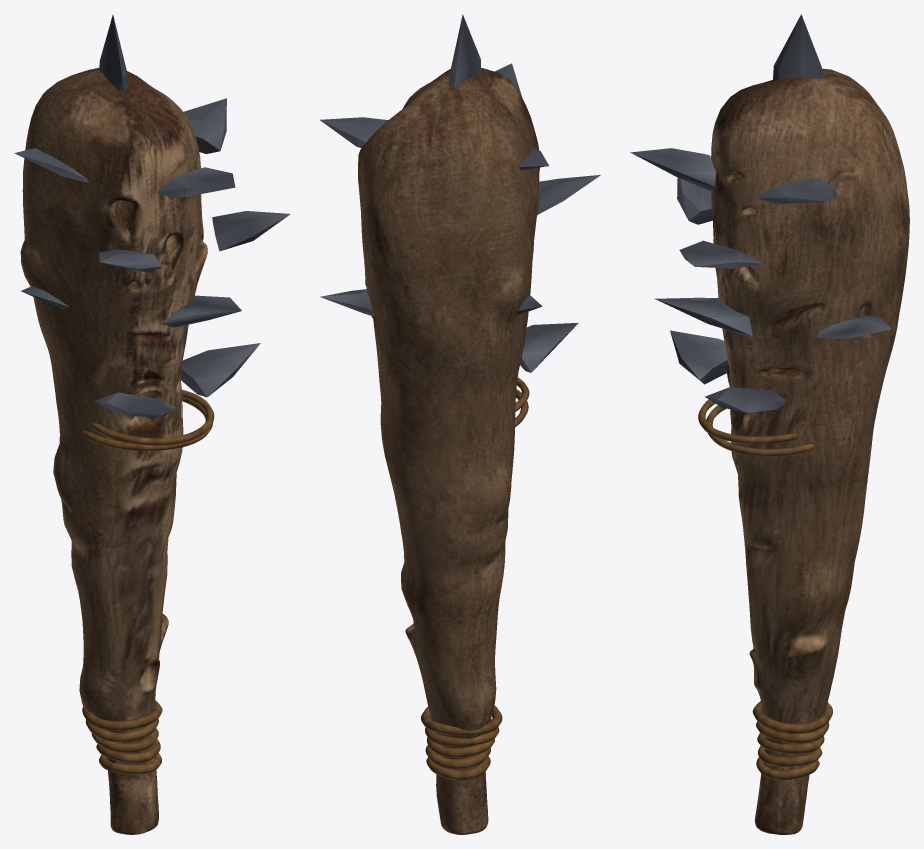
The model's file is flint_club.glb.
3 views of the same model, side by side, from view 1: azimuth 30°, elevation 25°; view 2: azimuth 150°, elevation 25°; view 3: azimuth 270°, elevation 25° (orthographic).
Parts seen in each view (by area): view 1: club, flint, wraps; view 2: club, flint, wraps; view 3: club, flint, wraps.
Boxes of the visible parts, x1,y1,x2,y2 form: club: (20,67,207,834); flint: (14,15,290,417); wraps: (80,390,214,774); club: (358,68,539,834); flint: (320,14,600,372); wraps: (421,377,529,780); club: (711,68,909,834); flint: (630,14,891,413); wraps: (698,399,832,780).
Size of the model in its own units: 0.3065 by 1.08 by 0.338.
3 materials, 1 textured.
